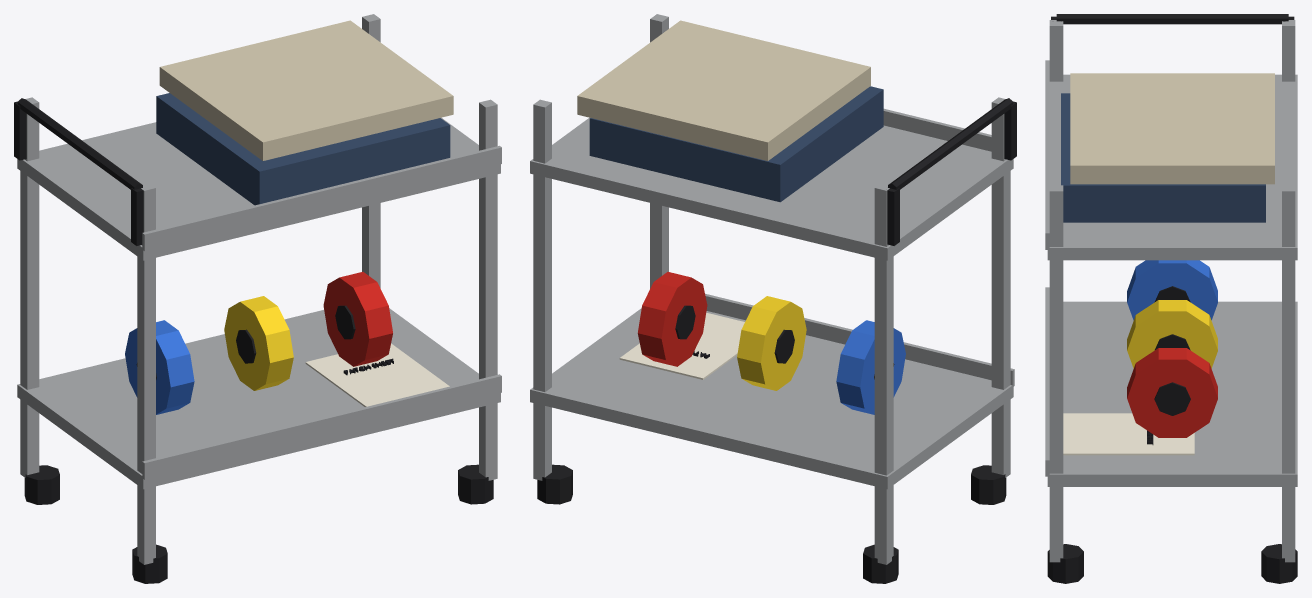
Rendered from dc.trolley.glb.
3 views of the same model, side by side, from view 1: azimuth 30°, elevation 25°; view 2: azimuth 150°, elevation 25°; view 3: azimuth 270°, elevation 25° (orthographic).
Visible parts, largest first — view 1: shelf0.25, box2, shelf0.8, box1, lip0.8, lip0.25, leg-1-1, leg11, leg-11, reel2, reel1, sheet (+8 smaller); view 2: shelf0.25, box2, shelf0.8, box1, leg-1-1, leg1-1, leg-11, reel1, reel2, reel0, lip0.25, sheet (+8 smaller); view 3: shelf0.25, box2, shelf0.8, box1, reel2, leg11, leg1-1, sheet, reel1, reel0, handle, castor1-1 (+8 smaller).
Part boxes in pixels (x1,y1,x2,y2): shelf0.25: (17,308,500,489); box2: (159,20,453,160); shelf0.8: (17,117,500,260); box1: (156,93,450,205); lip0.8: (142,145,501,251); lip0.25: (142,374,501,479); leg-1-1: (20,97,39,477); leg11: (479,99,497,480); leg-11: (137,183,155,564); reel2: (323,272,392,366); reel1: (224,296,293,390); sheet: (305,343,449,406); shelf0.25: (530,308,1013,489); box2: (577,20,870,160); shelf0.8: (530,117,1013,260); box1: (589,86,883,202); leg-1-1: (874,183,893,564); leg1-1: (533,99,551,480); leg-11: (991,97,1010,477); reel1: (737,296,806,390); reel2: (637,272,707,366); reel0: (836,320,905,414); lip0.25: (705,293,1014,386); sheet: (619,312,744,379); shelf0.25: (1047,301,1297,486); box2: (1070,73,1274,184); shelf0.8: (1047,74,1297,260); box1: (1061,93,1265,222); reel2: (1127,348,1217,437); leg11: (1049,185,1063,562); leg1-1: (1282,185,1295,562); sheet: (1063,413,1194,455); reel1: (1127,300,1217,368); reel0: (1127,260,1217,320); handle: (1056,14,1288,24); castor1-1: (1261,544,1297,583).
Size of the model in its own units: 0.9125 by 0.9725 by 0.555.
